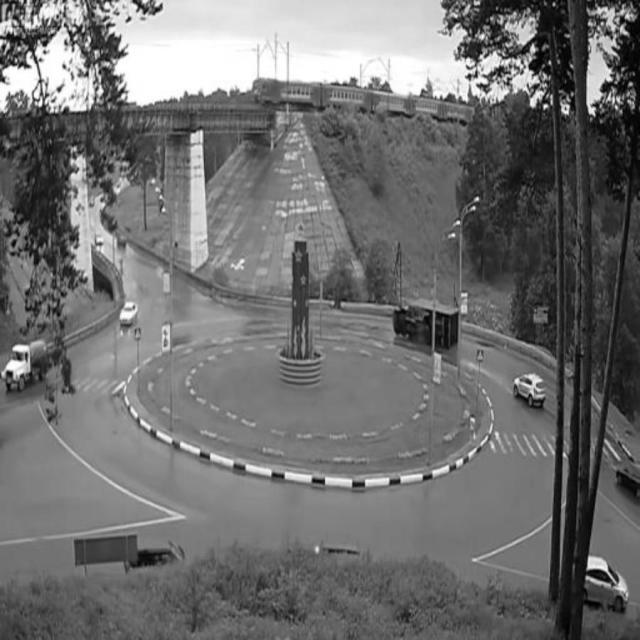vehicle: (397, 297, 463, 349), (580, 549, 626, 616), (6, 339, 48, 389), (512, 371, 544, 409), (118, 303, 145, 327)
